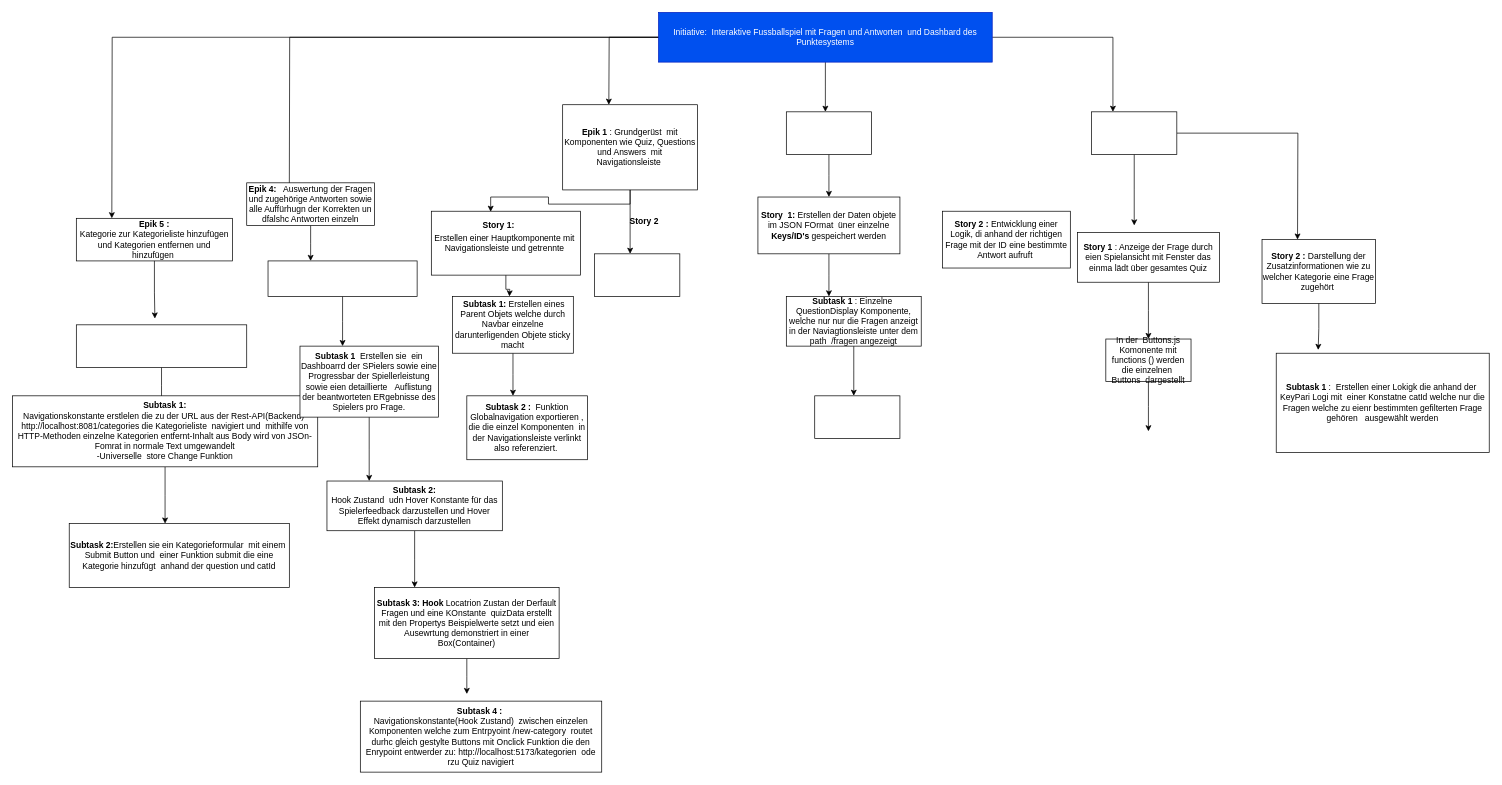
The diagram is 1502 pixels wide and 785 high, and some of its shapes have lost their labels. The centre of each missing label's shape, as x and y in pixels:
"Epik 2 : Quizlogik mit Datenverarbeitung der Daten ins Frontend geladen" goes at (829,132).
"Epik 3 : Einzelne User Interfaces (UI's) entwickeln der Unterseite" goes at (1134,132).
"Implementierung von React Router für Pfade wie /quiz/:id" goes at (637,274).
"Stor 1 : Erstelle eine Komponente Auswertung.jsx im Unterordner /components" goes at (342,278).
"Story 1: Erstellen Sie eine Komponente /KategoryForm im Unterordner /components" goes at (161,345).
"Subtask 2:" goes at (857,416).
